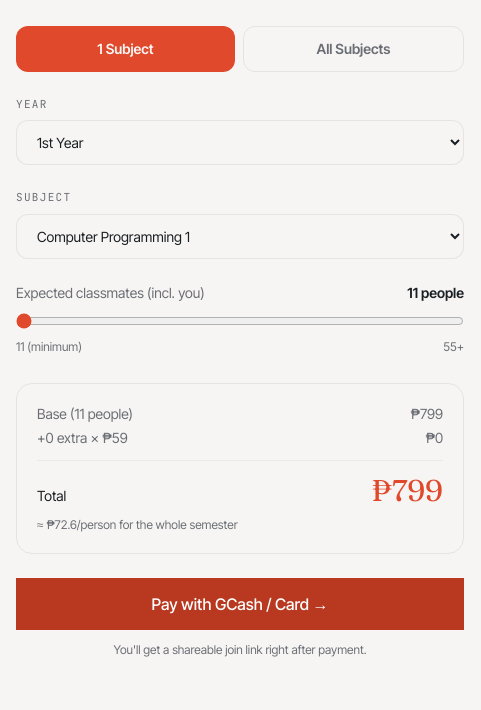
Test: ForBlocksCheckout › shows the inline API error message and re-enables Pay on failure
The image size is (481, 710).
(page scrolled)
Click the button "Pay with GCash / Card →" at point(240, 604), box [16,578,464,630]
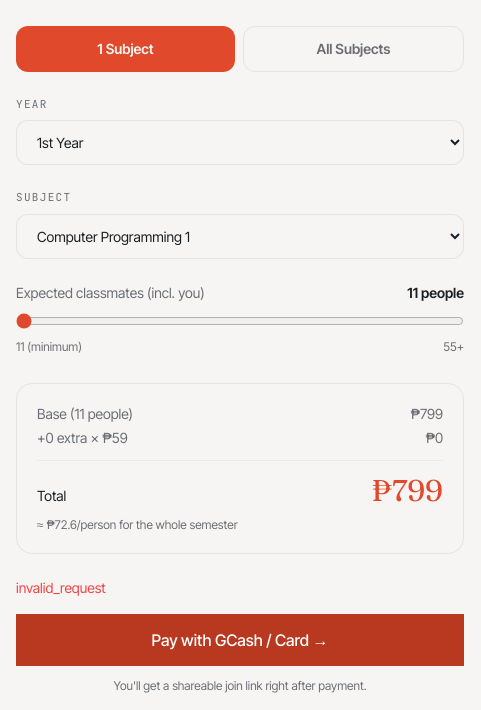
Expected: the button "Pay with GCash / Card →" is enabled, [16,614,464,666]
Now the message reads "invalid_request", box [16,578,106,596]
